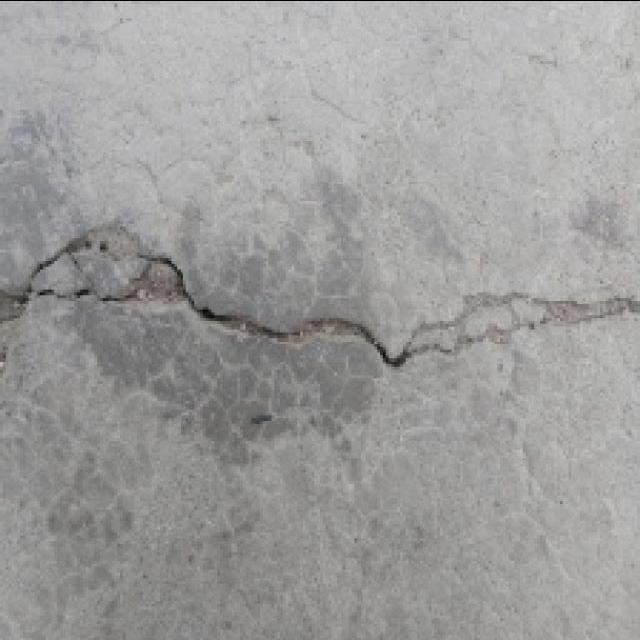SurfaceCrack: (2, 220, 640, 378)
